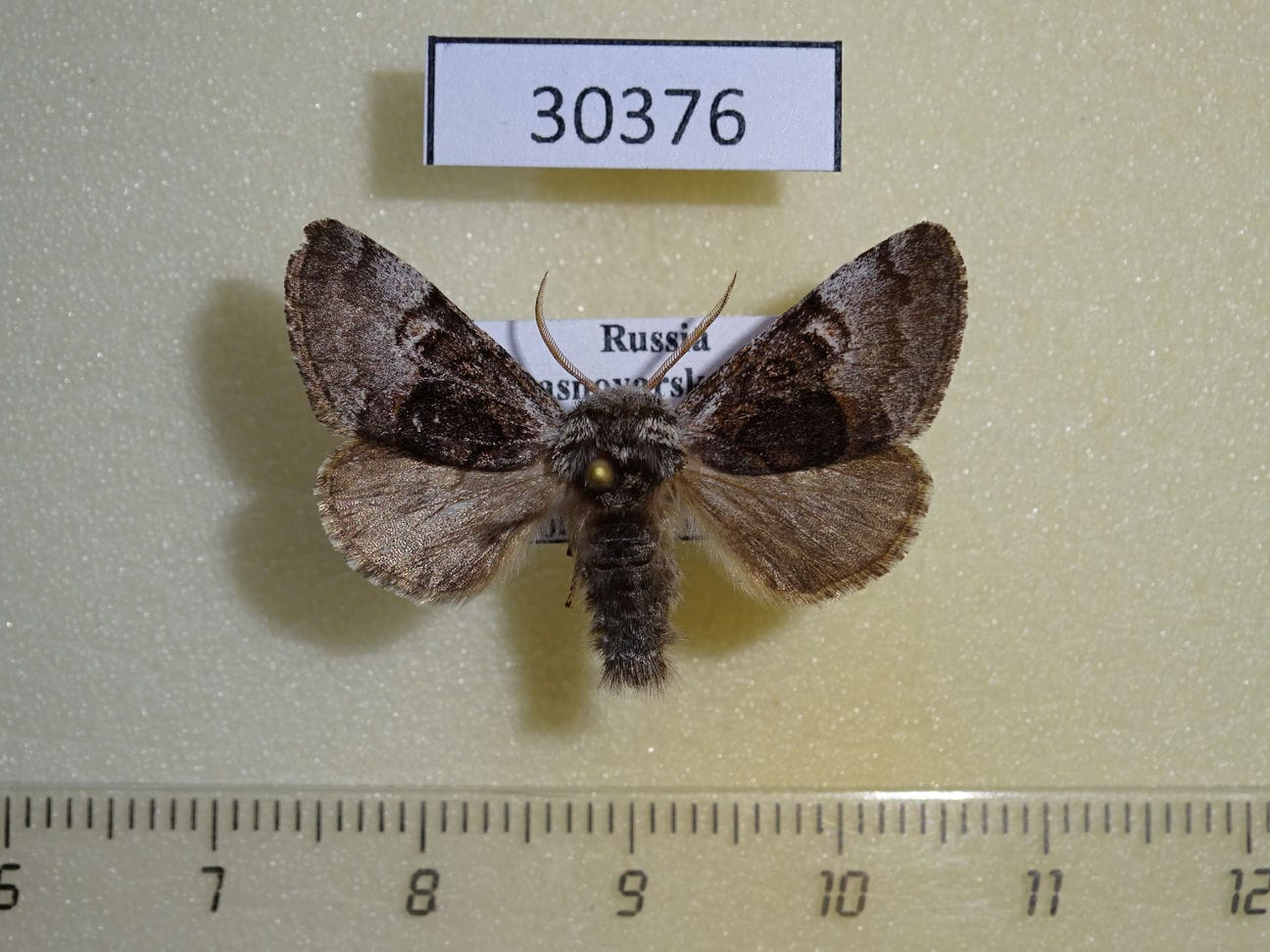Noctuidae: (281, 213, 972, 696)
